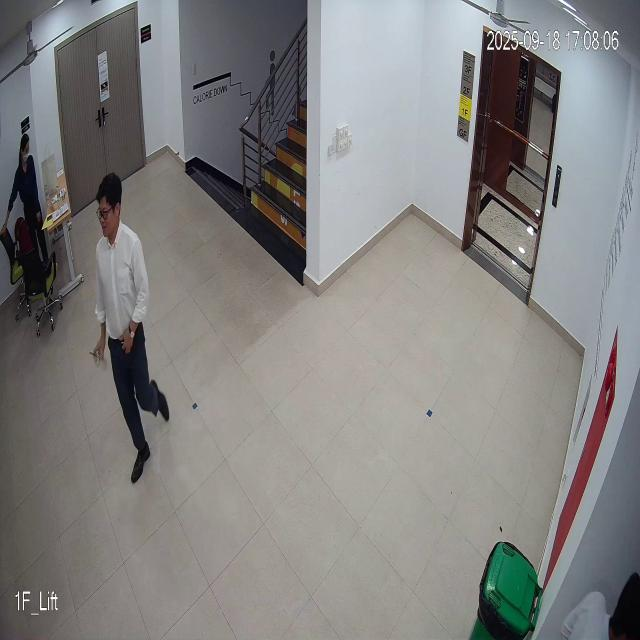face: (93, 173, 127, 240)
